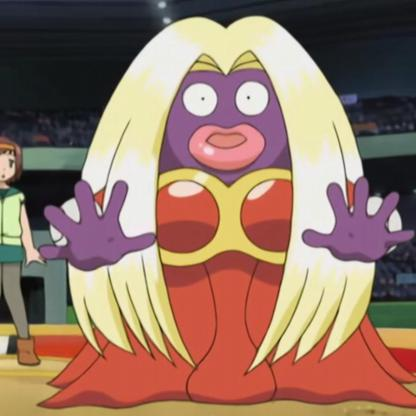Jynx: (21, 1, 416, 416)
